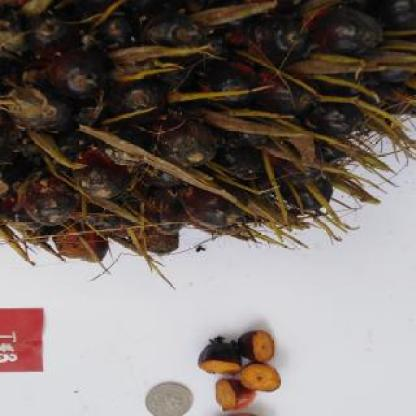Unripe: (0, 0, 416, 269)
